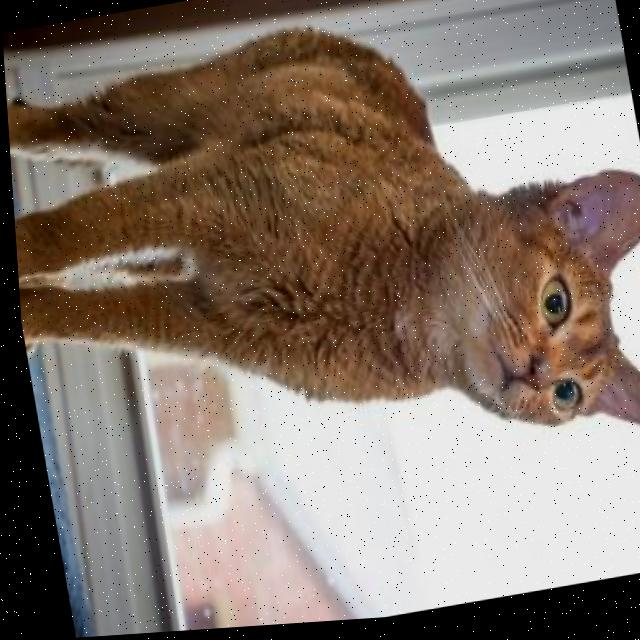Abyssinian: (0, 0, 640, 546)
